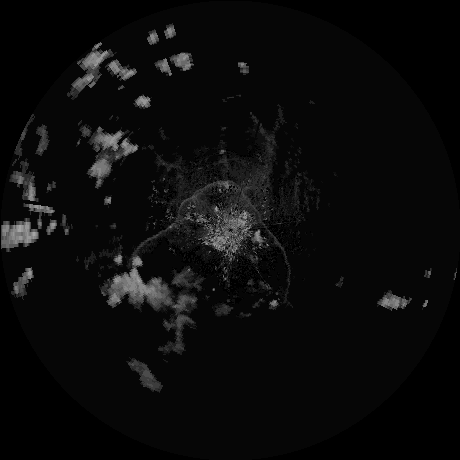frontgust: (133, 178, 237, 254), (237, 188, 292, 304)
